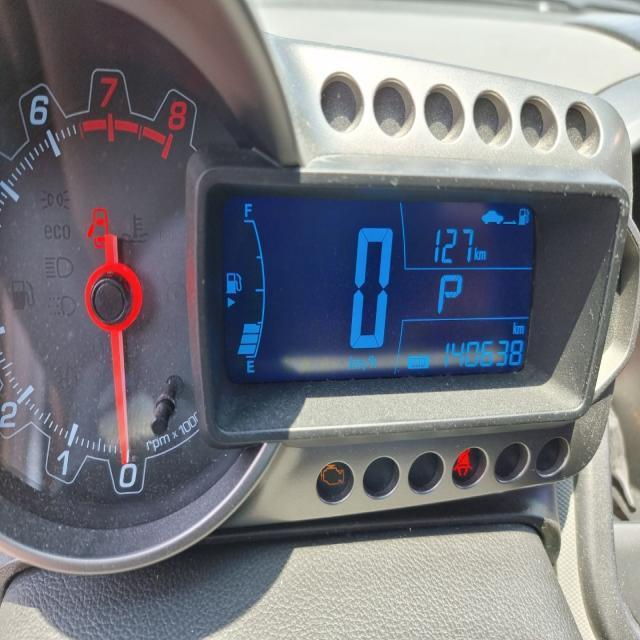Doors: (85, 206, 108, 249)
